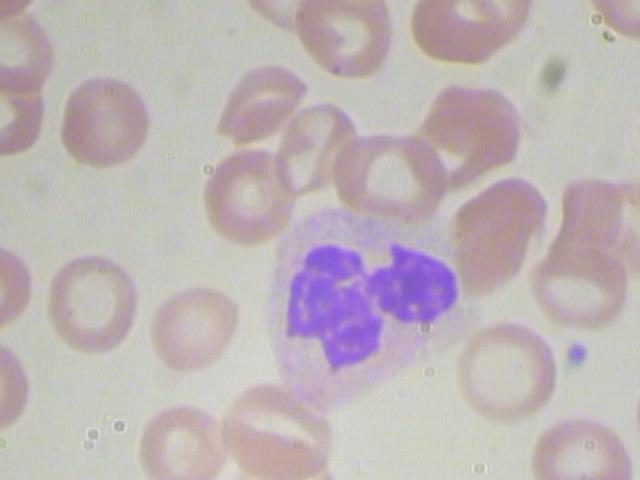RBC: (449, 311, 560, 428), (329, 129, 456, 224), (42, 242, 140, 361), (54, 56, 152, 175), (146, 265, 244, 384), (220, 377, 334, 479), (200, 142, 304, 253), (205, 59, 313, 147), (529, 238, 628, 331), (291, 1, 400, 84), (133, 394, 232, 480)
